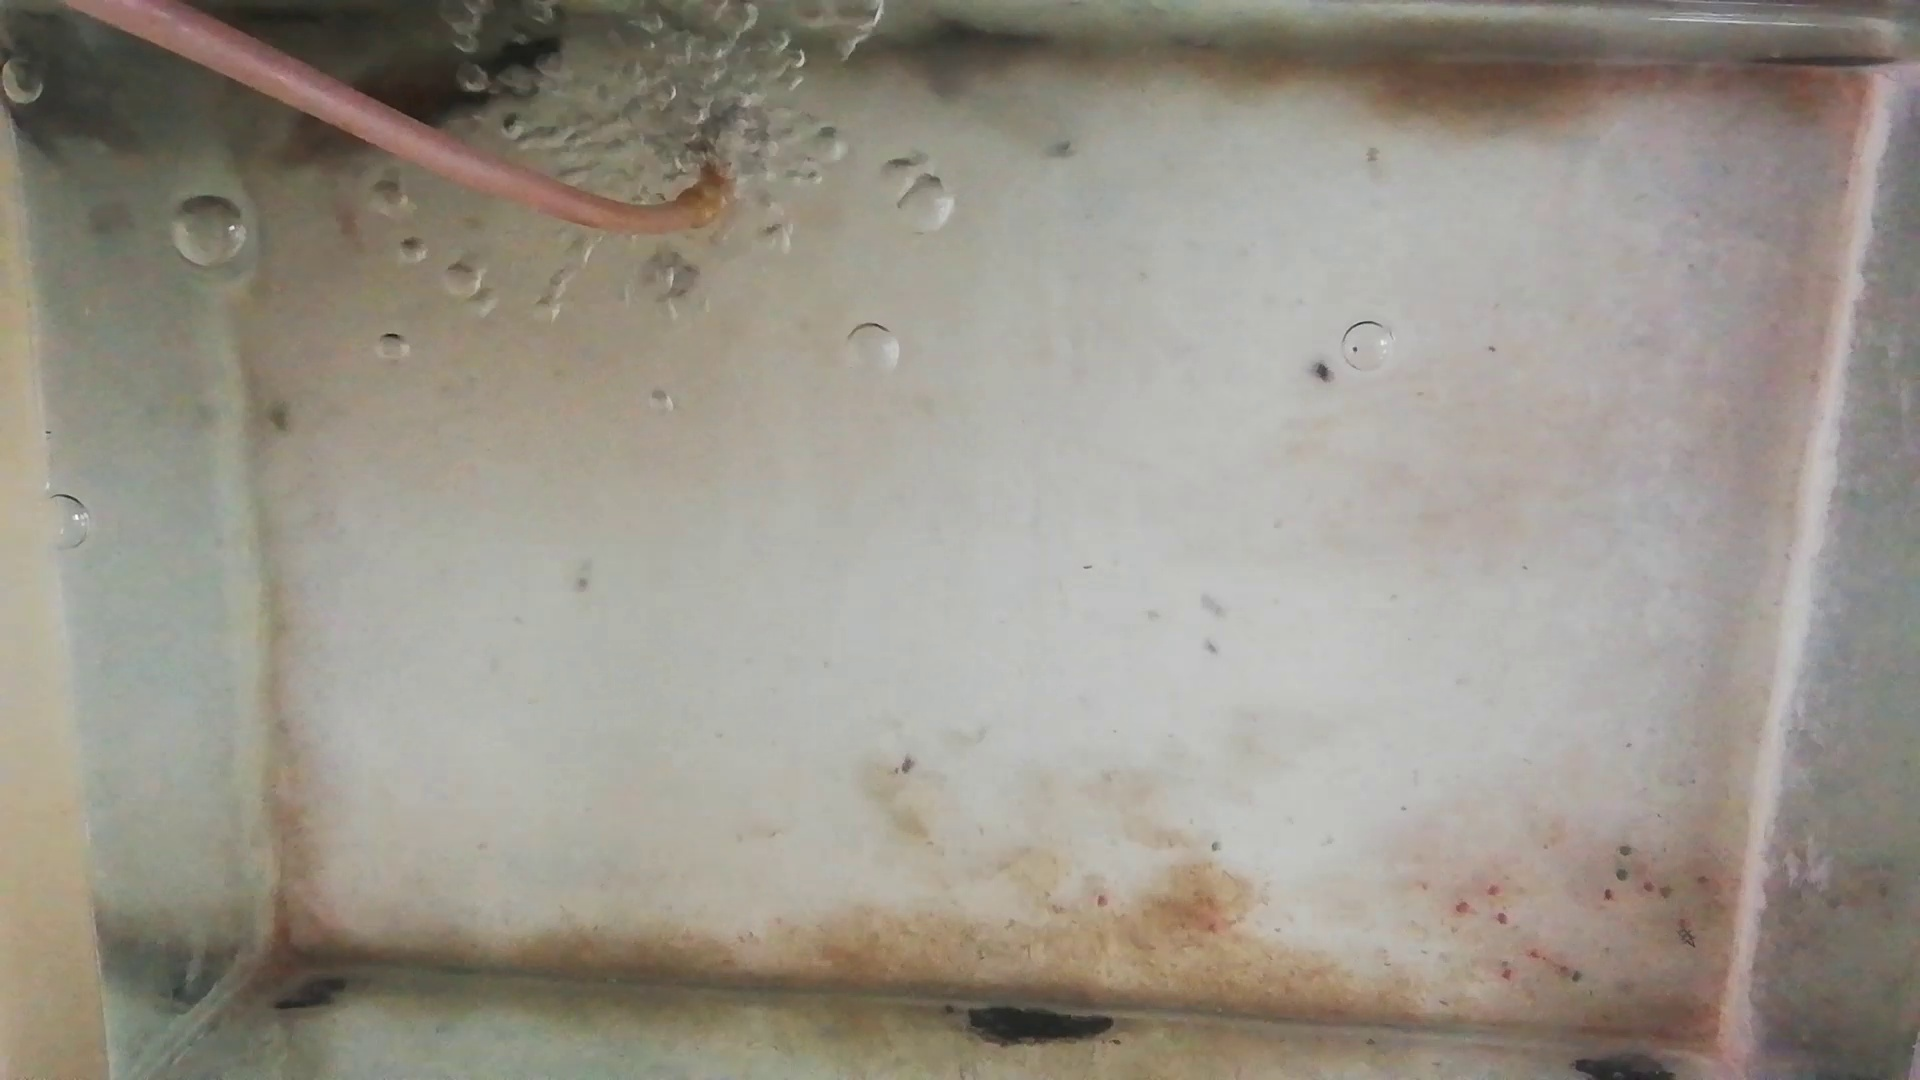fish: (409, 51, 564, 109), (345, 59, 458, 99)
